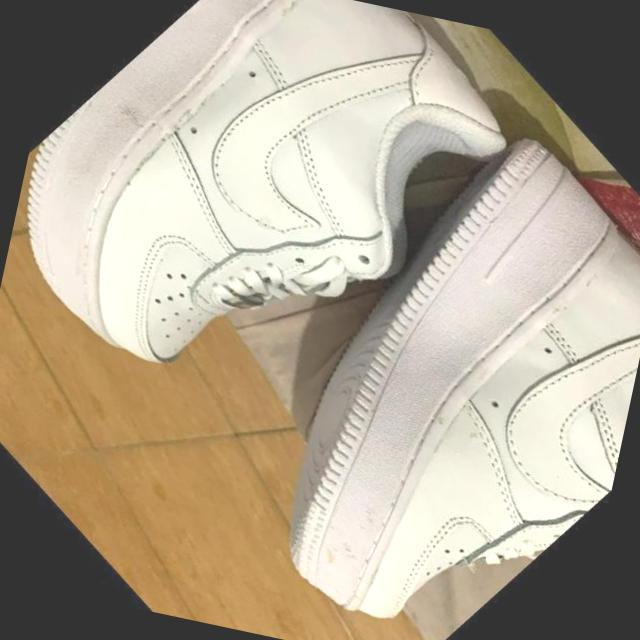nike_original_airforce: (139, 65, 640, 640), (0, 0, 557, 509)
